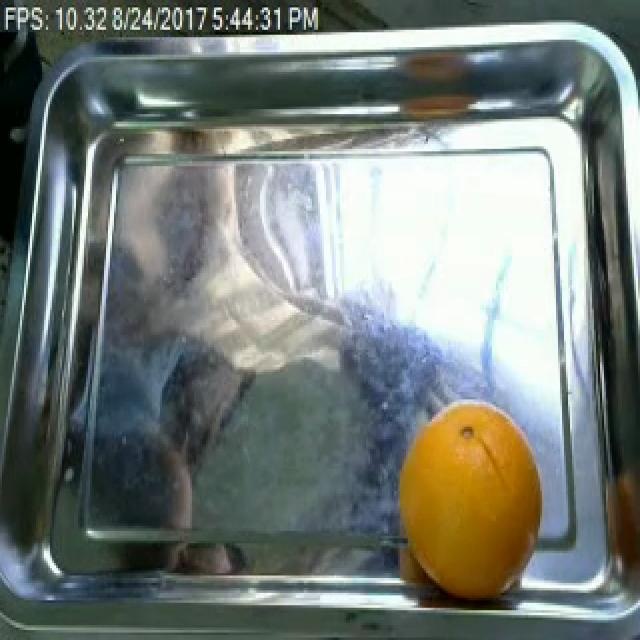Fruit: (390, 397, 554, 613)
